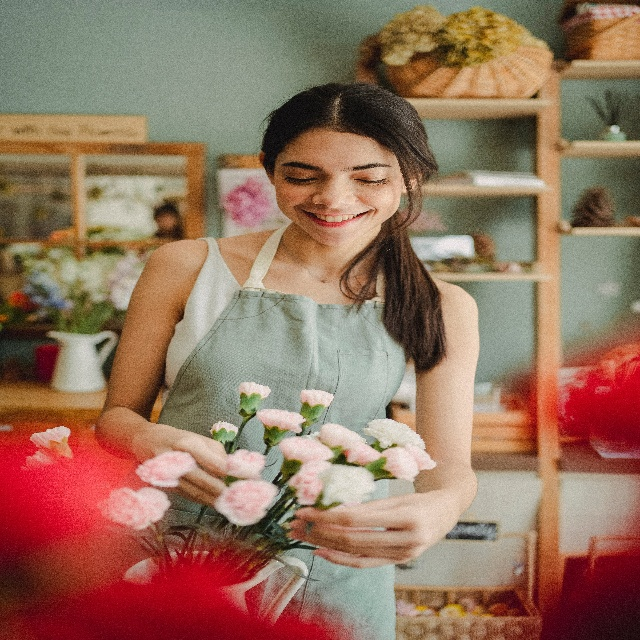Sin_guantes: (292, 491, 460, 569), (140, 417, 226, 503)
